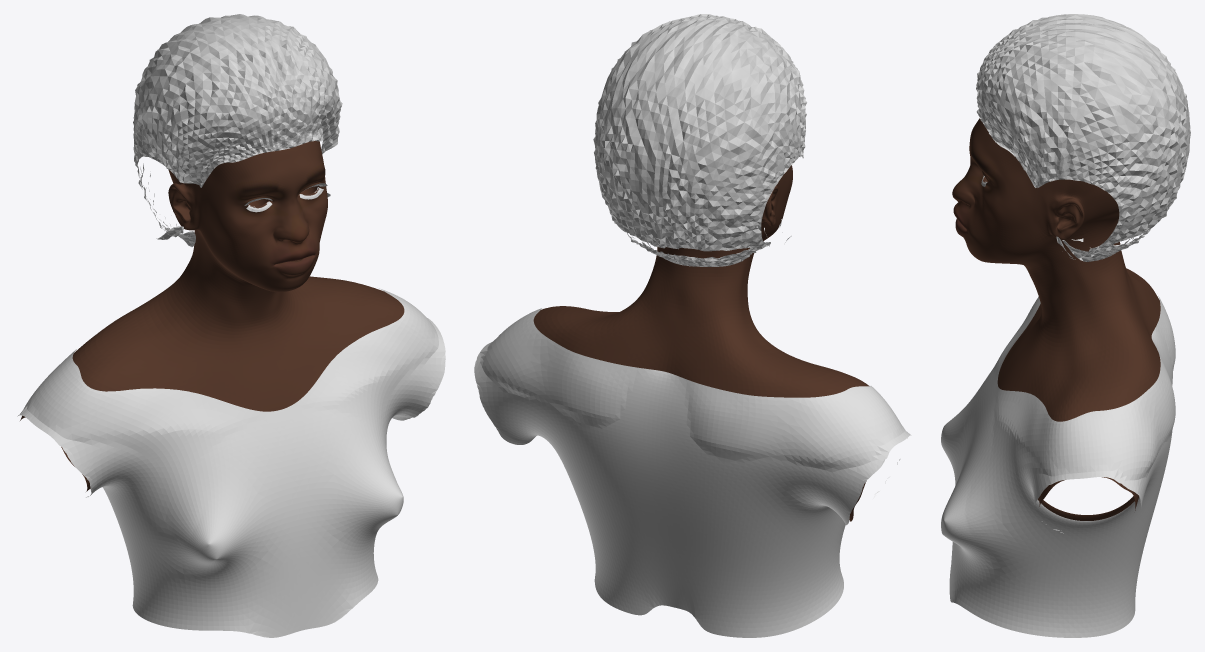
Rendered from hd_f_dark.glb.
The picture shows the model from 3 angles, left to right: view 1: azimuth 30°, elevation 25°; view 2: azimuth 150°, elevation 25°; view 3: azimuth 270°, elevation 25°; orthographic projection.
Visible parts, largest first — view 1: top, skin, hair; view 2: top, hair, skin; view 3: top, skin, hair.
Part boxes in pixels (<box>): top: <box>17,288,445,637</box>; skin: <box>20,141,404,491</box>; hair: <box>133,14,342,246</box>; top: <box>474,308,911,637</box>; hair: <box>593,14,806,266</box>; skin: <box>533,165,869,521</box>; top: <box>941,296,1175,637</box>; skin: <box>952,118,1160,520</box>; hair: <box>976,14,1190,261</box>.
Size of the model in its own units: 0.4627 by 0.6193 by 0.2474.
